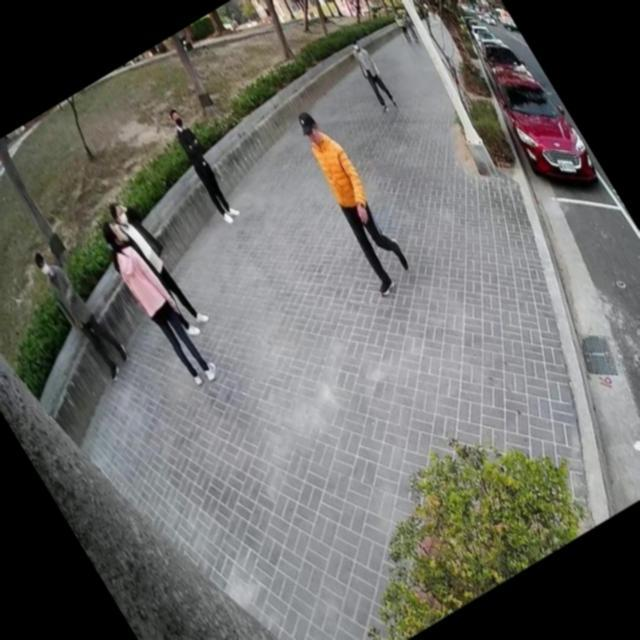person: (274, 97, 424, 301), (86, 204, 226, 397), (102, 186, 216, 344), (24, 235, 139, 390), (156, 100, 247, 230), (342, 33, 403, 117), (388, 8, 417, 48), (397, 8, 425, 47)
